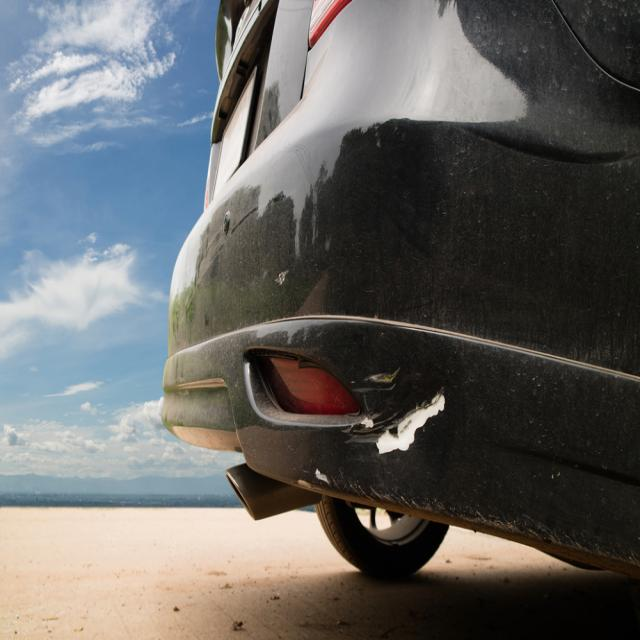scratch: (340, 360, 450, 461)
